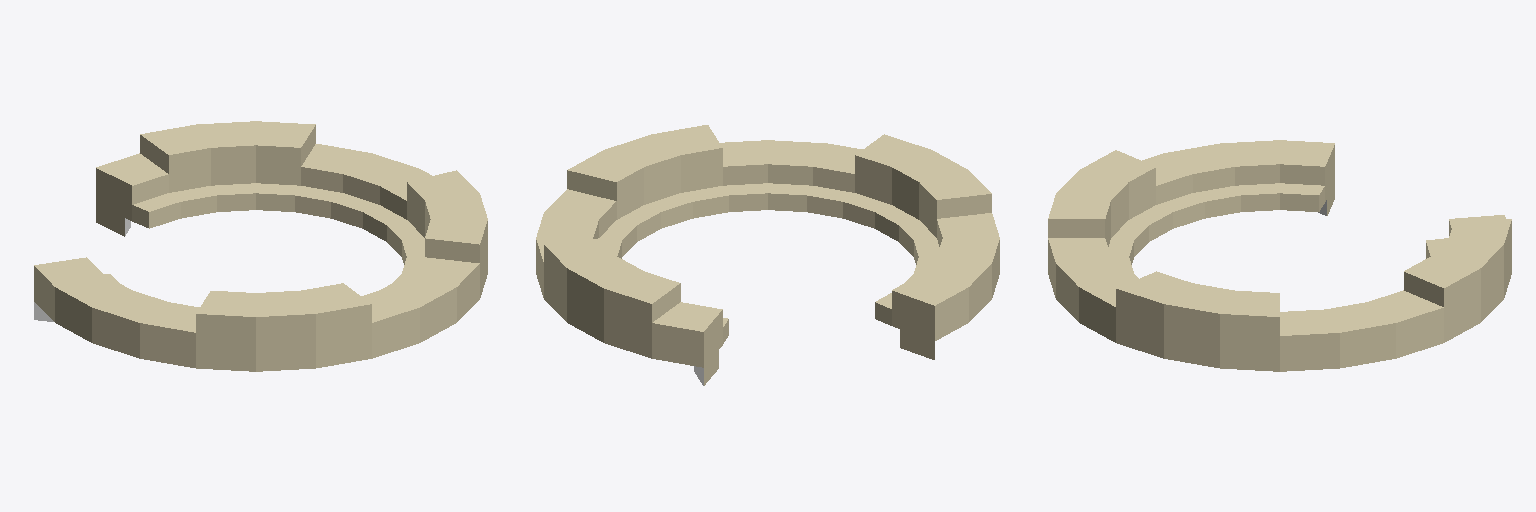
Rendered from towerTopCorner.obj.
3 renders of one model, left to right at view 1: azimuth 30°, elevation 25°; view 2: azimuth 150°, elevation 25°; view 3: azimuth 270°, elevation 25°, orthographic.
Visible parts, largest first — view 1: towerTopCorner; view 2: towerTopCorner; view 3: towerTopCorner.
Part boxes in pixels (x1,y1,x2,y2): towerTopCorner: (34,121,487,371); towerTopCorner: (536,125,999,385); towerTopCorner: (1048,140,1511,371).
Bounding box in the file's own units: 10 × 1.75 × 10.